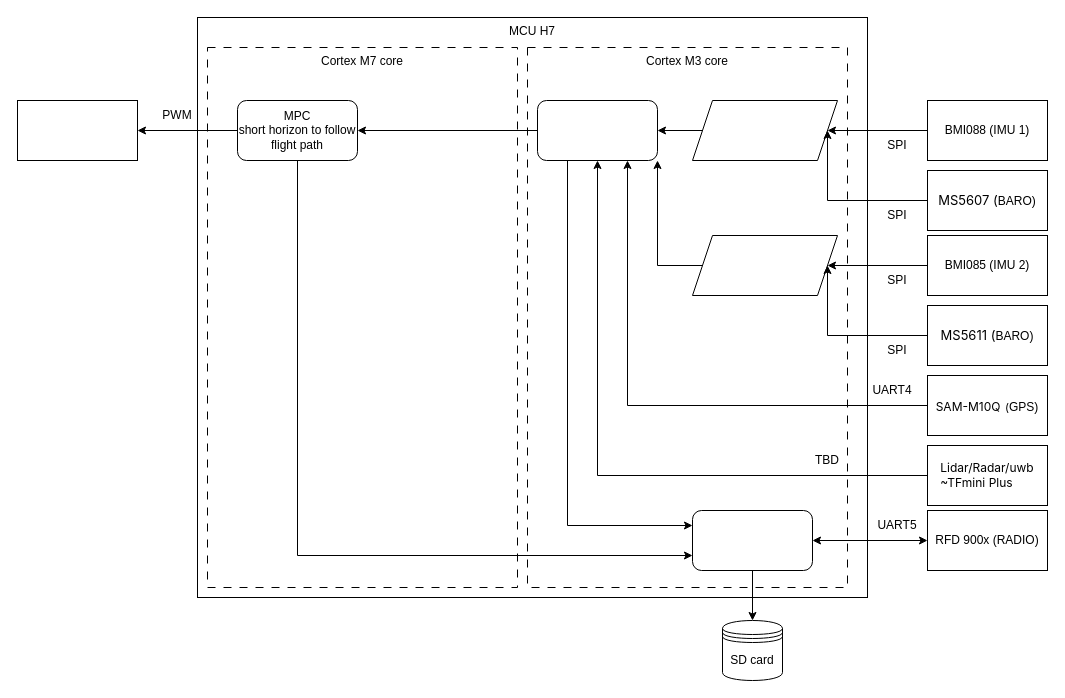
Some shapes in this 1065 by 698 pixel diagram are drawn without their labels. The centre of each missing label's shape, as x and y in pixels:
"EKF Sensor fusion & filtering, state estimation" belongs at (x=597, y=130).
"RADIO/state machine/Data logging" belongs at (x=752, y=540).
"Servos" belongs at (x=77, y=130).
"SPI1 job queue DMA INTC pattern" belongs at (x=765, y=130).
"SPI2 job queue DMA INTC pattern" belongs at (x=765, y=265).
